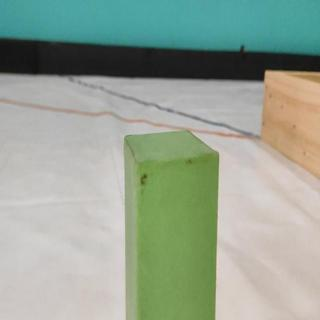greenbox: (119, 127, 222, 320)
